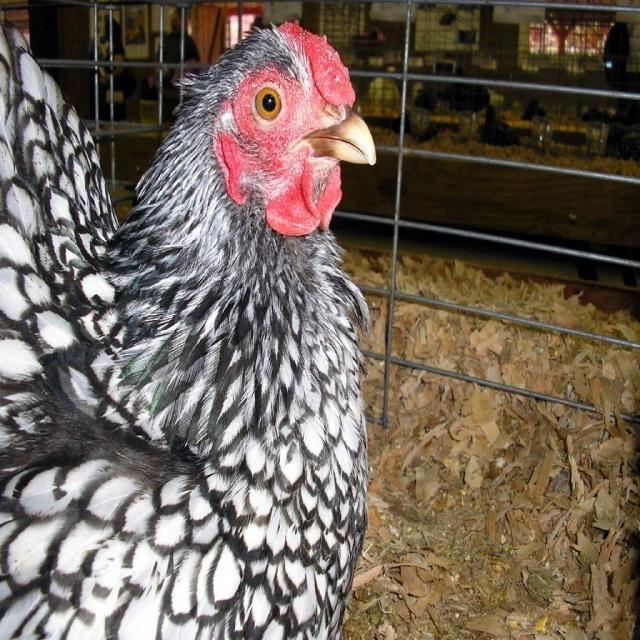Chicken: (0, 21, 377, 640)
